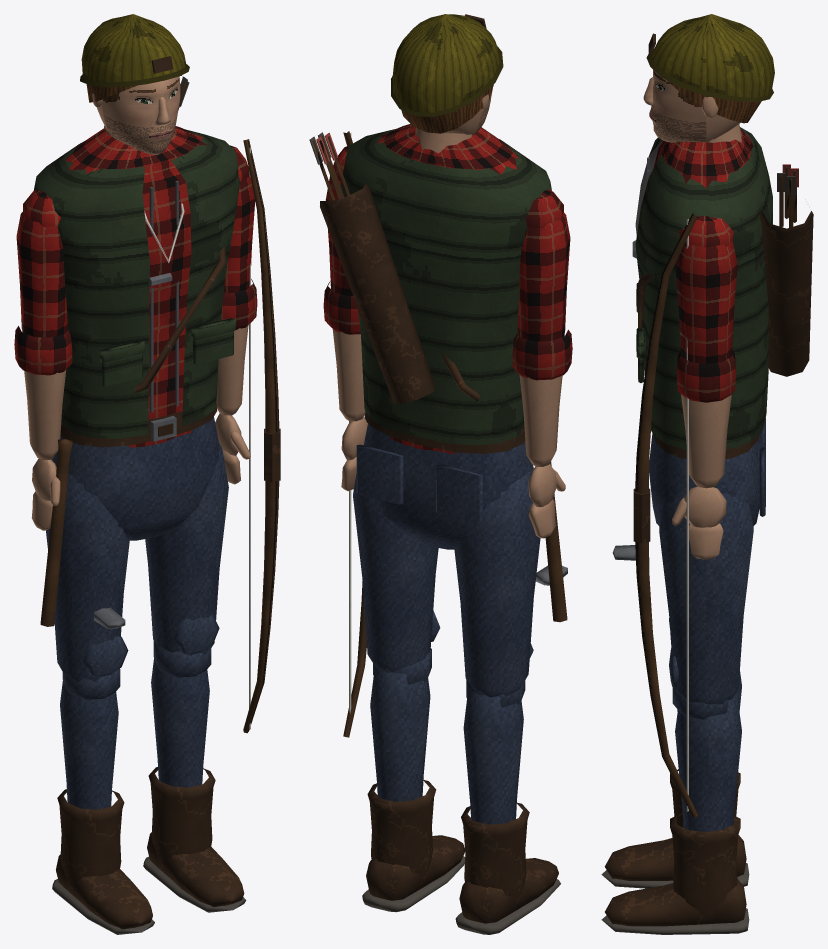
File: char_owen.glb
3 renders of one model, left to right at view 1: azimuth 30°, elevation 25°; view 2: azimuth 150°, elevation 25°; view 3: azimuth 270°, elevation 25°, orthographic. The views are drawn at different scales.
Visible parts, largest first — view 1: Spine, Hips, ShinL, ThighR, ShinR, Head, ThighL, HandL, UpperArmR, ForearmR, FootL, FootR (+3 smaller); view 2: Spine, Hips, ThighR, ShinL, ShinR, Head, ThighL, UpperArmR, ForearmR, FootR, FootL, ForearmL (+3 smaller); view 3: Spine, ThighL, Head, ShinL, HandL, UpperArmL, ForearmL, Hips, FootL, FootR, ShinR.
Boxes of the visible parts, x1=… form: Spine: x1=33, y1=76, x2=239, y2=447; Hips: x1=40, y1=404, x2=219, y2=629; ShinL: x1=148, y1=640, x2=215, y2=863; ThighR: x1=46, y1=462, x2=129, y2=681; ShinR: x1=57, y1=669, x2=124, y2=885; Head: x1=80, y1=14, x2=189, y2=154; ThighL: x1=145, y1=443, x2=228, y2=655; HandL: x1=215, y1=139, x2=280, y2=733; UpperArmR: x1=16, y1=189, x2=67, y2=337; ForearmR: x1=14, y1=326, x2=72, y2=459; FootL: x1=143, y1=832, x2=246, y2=912; FootR: x1=52, y1=854, x2=154, y2=934; Spine: x1=309, y1=124, x2=551, y2=454; Hips: x1=356, y1=411, x2=567, y2=622; ThighR: x1=454, y1=469, x2=540, y2=697; ShinL: x1=367, y1=648, x2=436, y2=880; ShinR: x1=461, y1=680, x2=529, y2=902; Head: x1=391, y1=14, x2=503, y2=153; ThighL: x1=353, y1=474, x2=440, y2=671; UpperArmR: x1=517, y1=189, x2=570, y2=341; ForearmR: x1=512, y1=329, x2=572, y2=466; FootR: x1=455, y1=858, x2=560, y2=934; FootL: x1=362, y1=835, x2=465, y2=912; ForearmL: x1=323, y1=281, x2=365, y2=421; Spine: x1=632, y1=127, x2=813, y2=449; ThighL: x1=659, y1=493, x2=753, y2=704; Head: x1=643, y1=14, x2=774, y2=142; ShinL: x1=670, y1=687, x2=741, y2=914; HandL: x1=633, y1=213, x2=726, y2=817; UpperArmL: x1=675, y1=216, x2=737, y2=364; ForearmL: x1=677, y1=350, x2=735, y2=488; Hips: x1=612, y1=418, x2=765, y2=560; FootL: x1=601, y1=879, x2=749, y2=934; FootR: x1=601, y1=835, x2=749, y2=888; ShinR: x1=670, y1=671, x2=741, y2=827.
Bounding box in the file's own units: 0.5263 × 1.87 × 0.4039.
15 materials, 15 textured.
